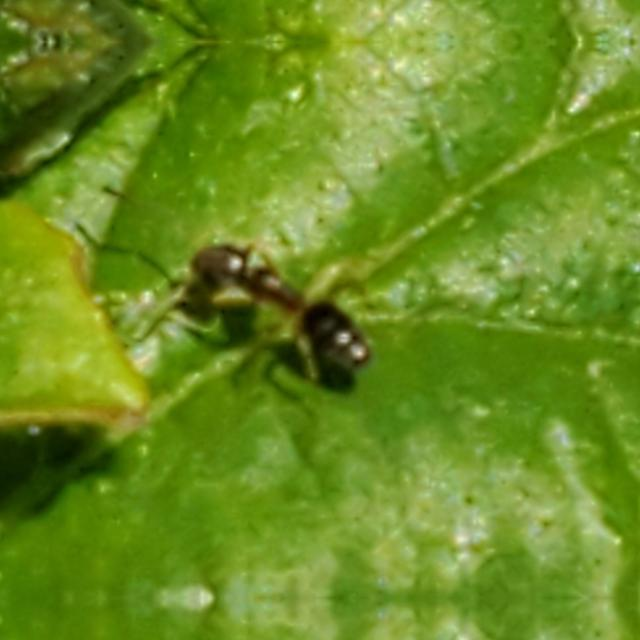Tapinoma: (160, 206, 404, 398)
